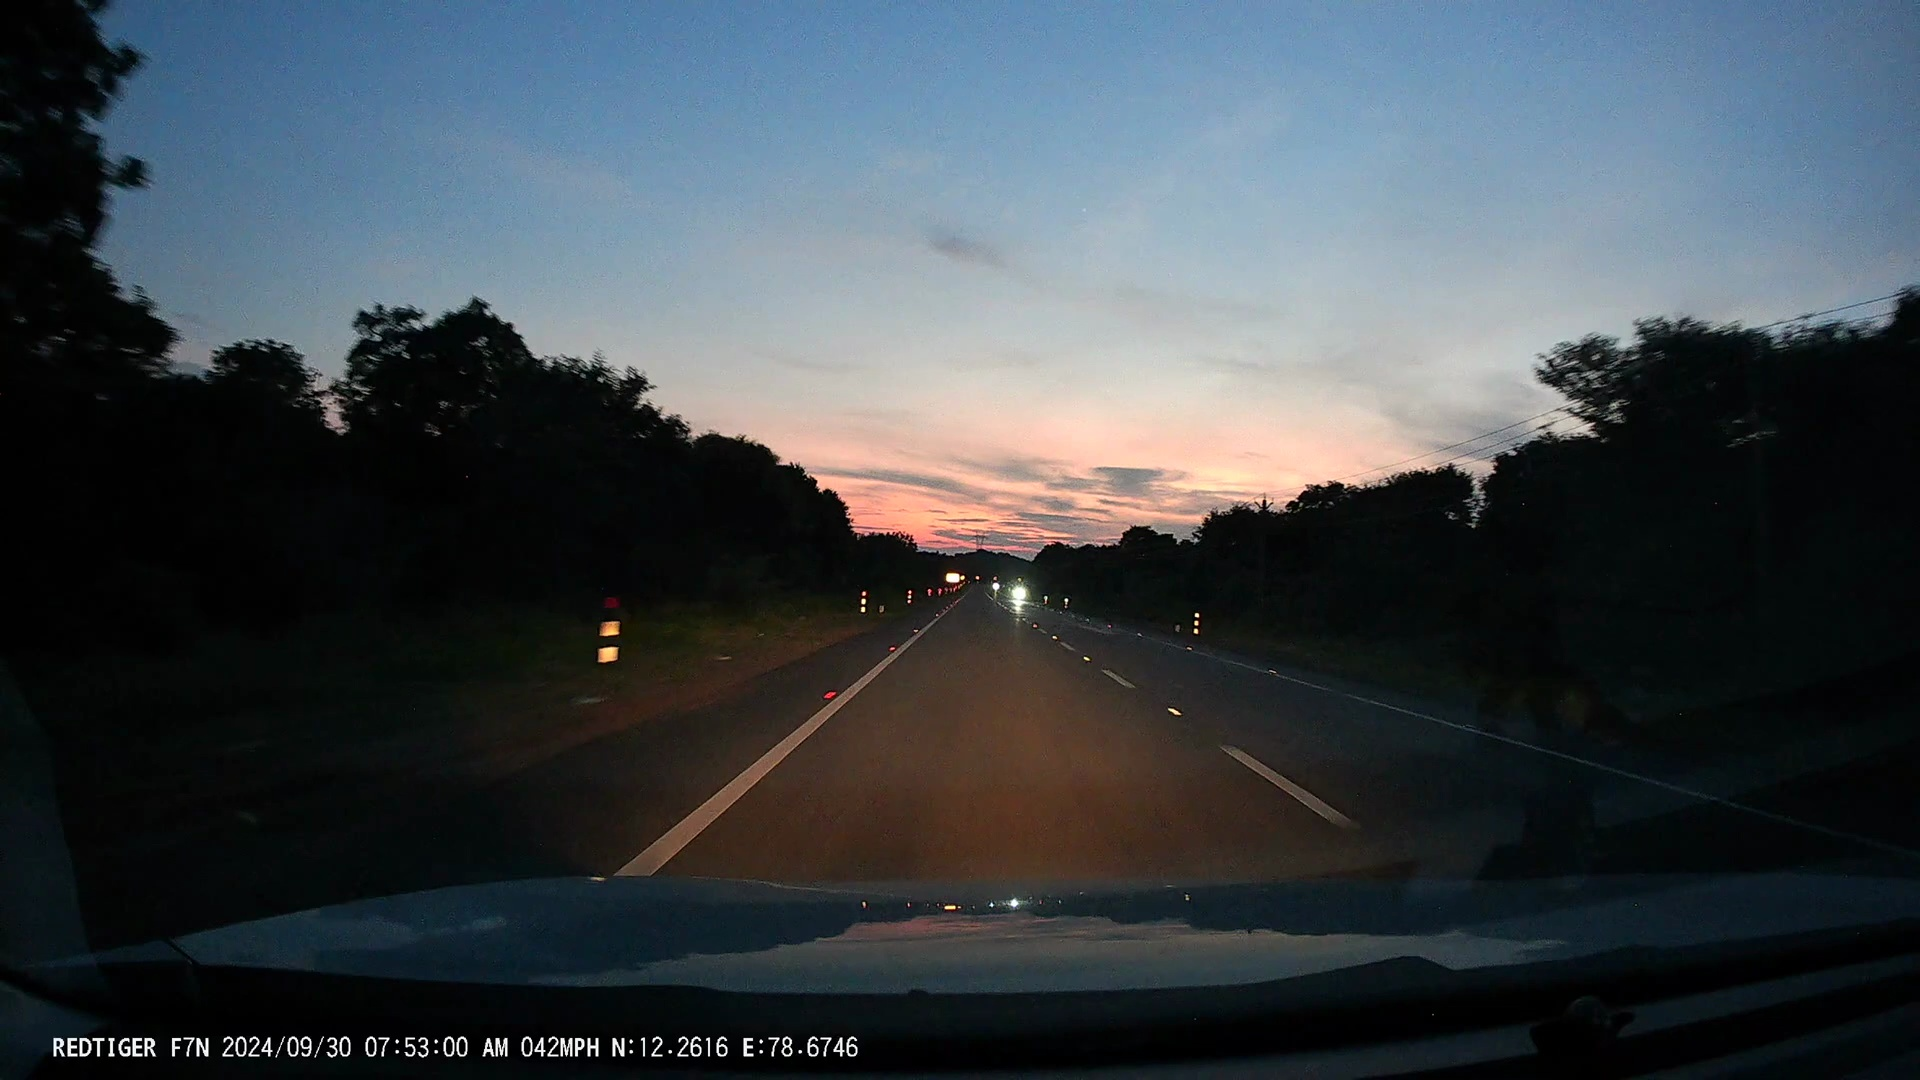headlight: (1011, 585, 1025, 600), (992, 580, 1000, 593)
two wheeler: (1010, 578, 1025, 612), (992, 575, 1001, 604)
